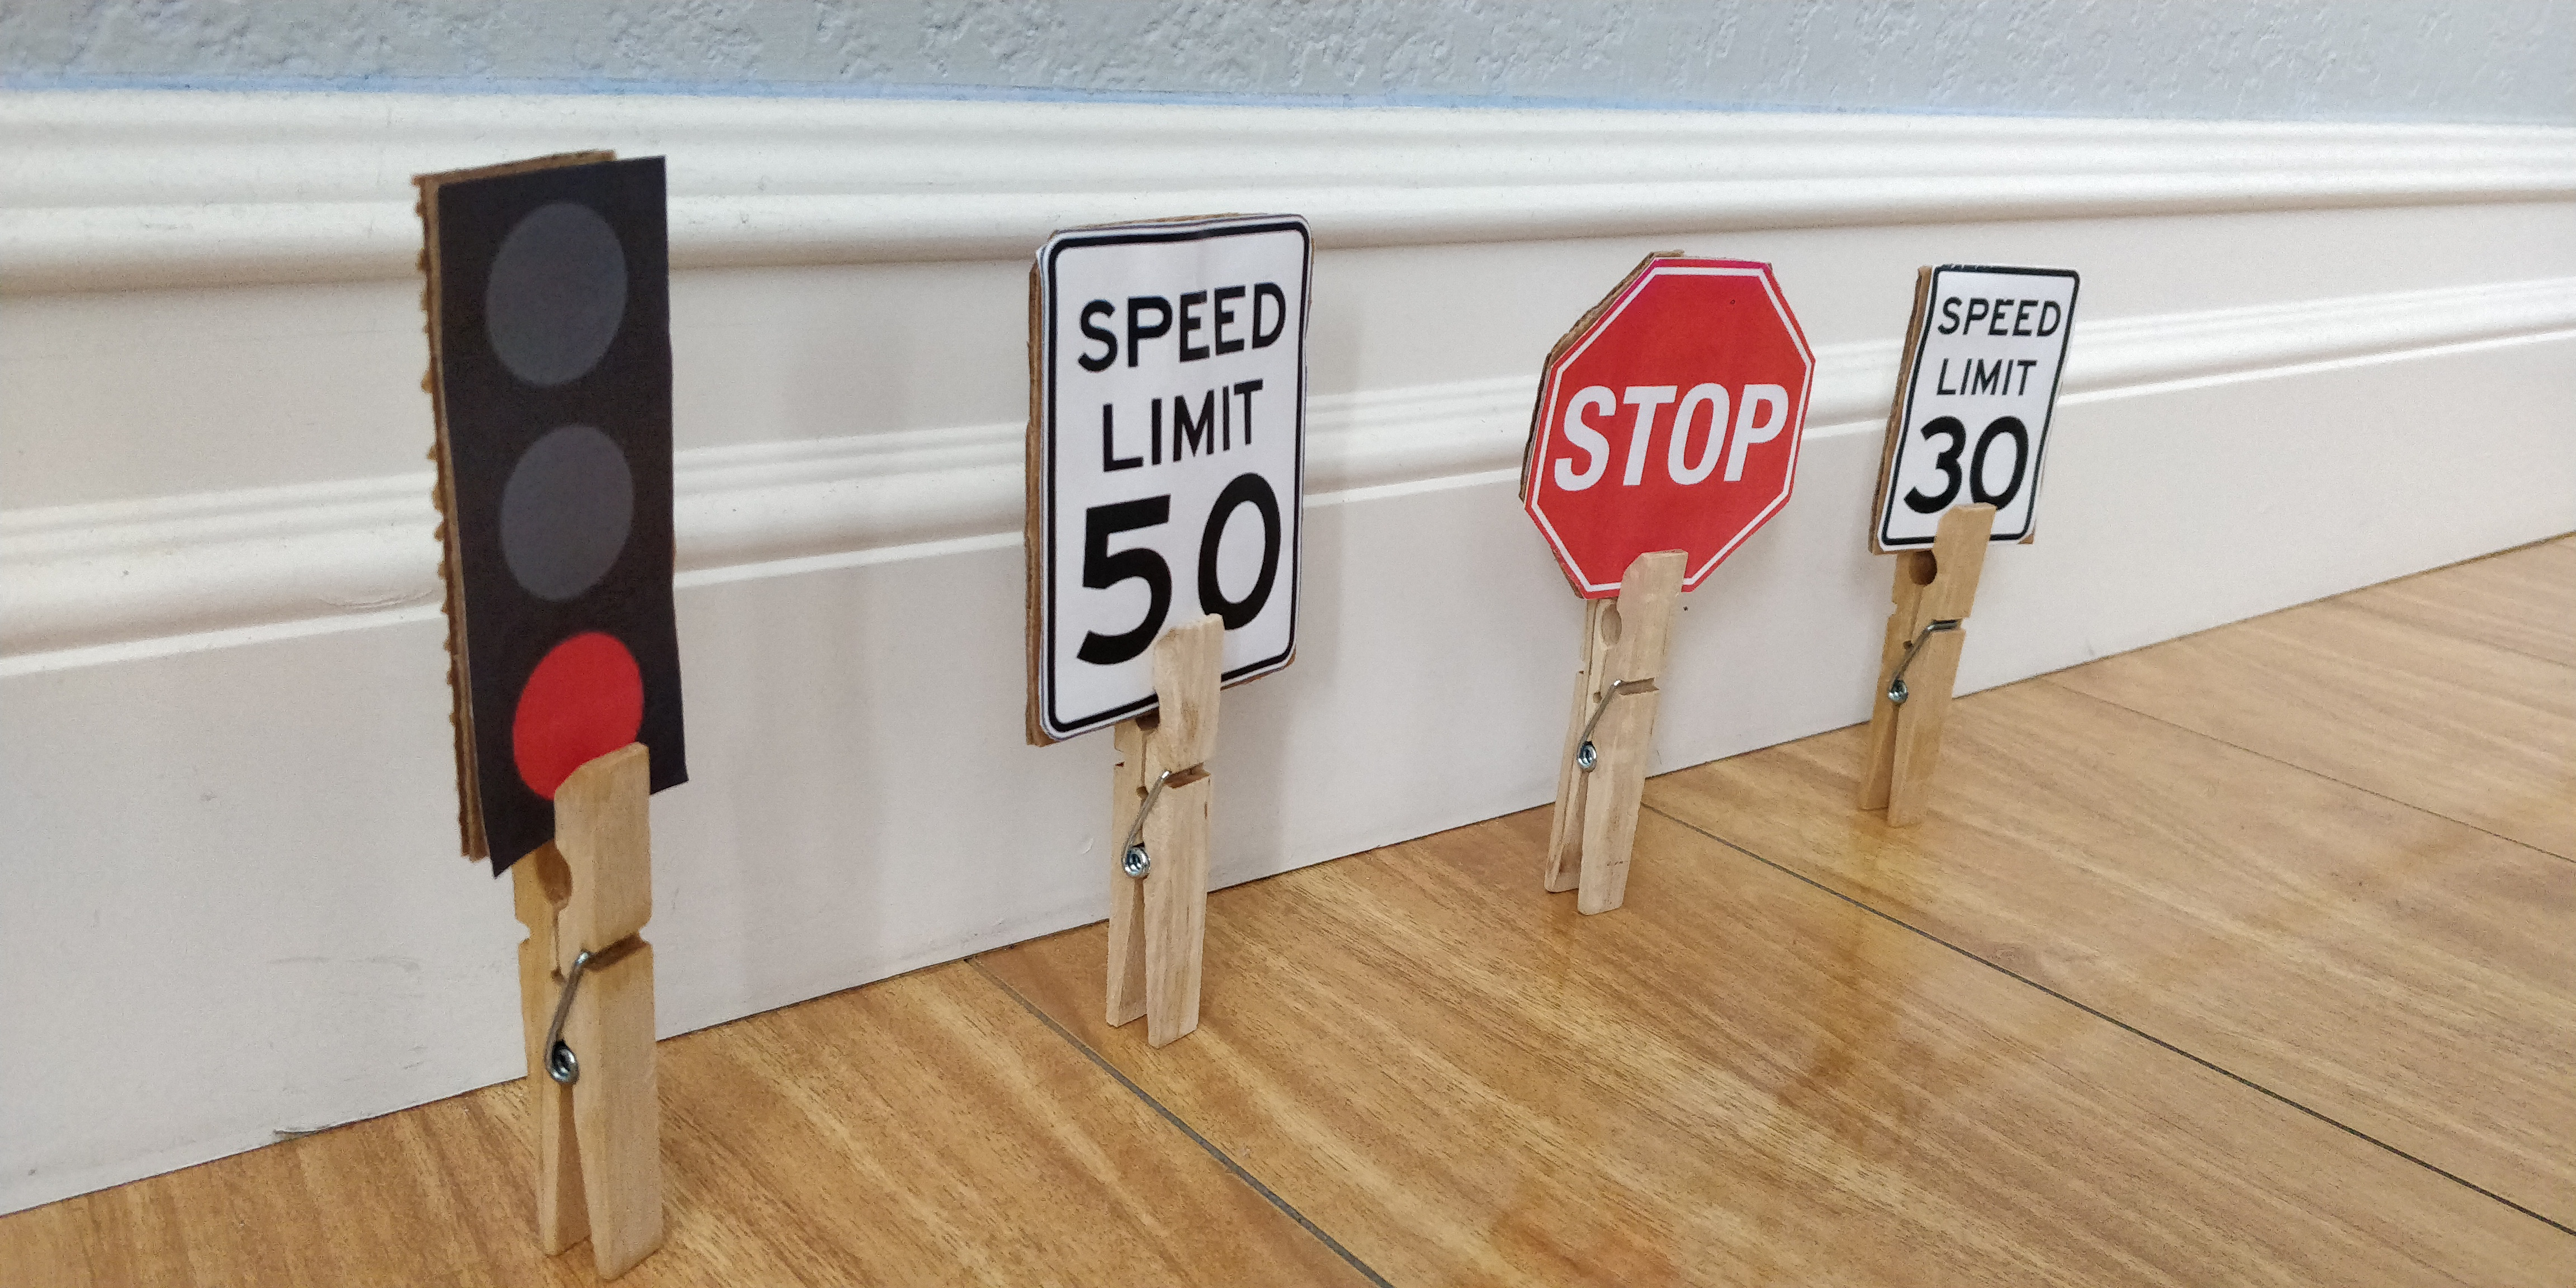Speed Limit 30: (1865, 260, 2078, 554)
Speed Limit 50: (1020, 214, 1311, 747)
Stop Sign: (1518, 237, 1815, 595)
red light: (412, 148, 690, 859)
